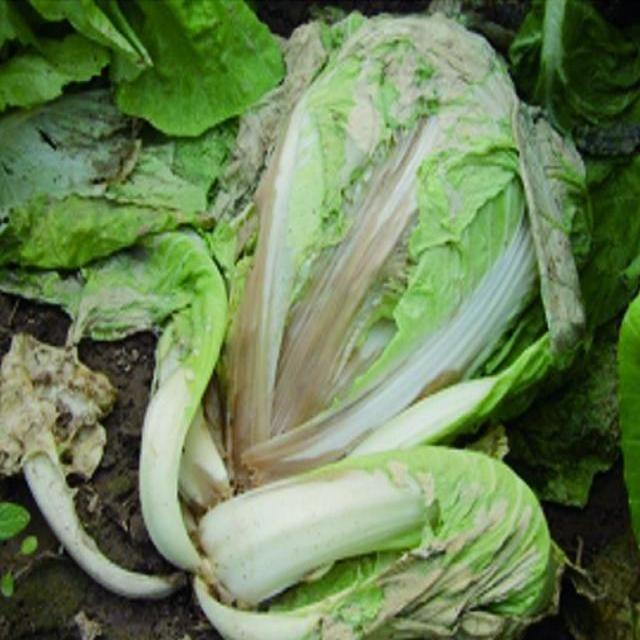-Kitchen waste - vegetable roots and leaves-: (200, 448, 577, 585), (83, 230, 228, 568), (243, 34, 354, 450), (392, 141, 548, 368)
